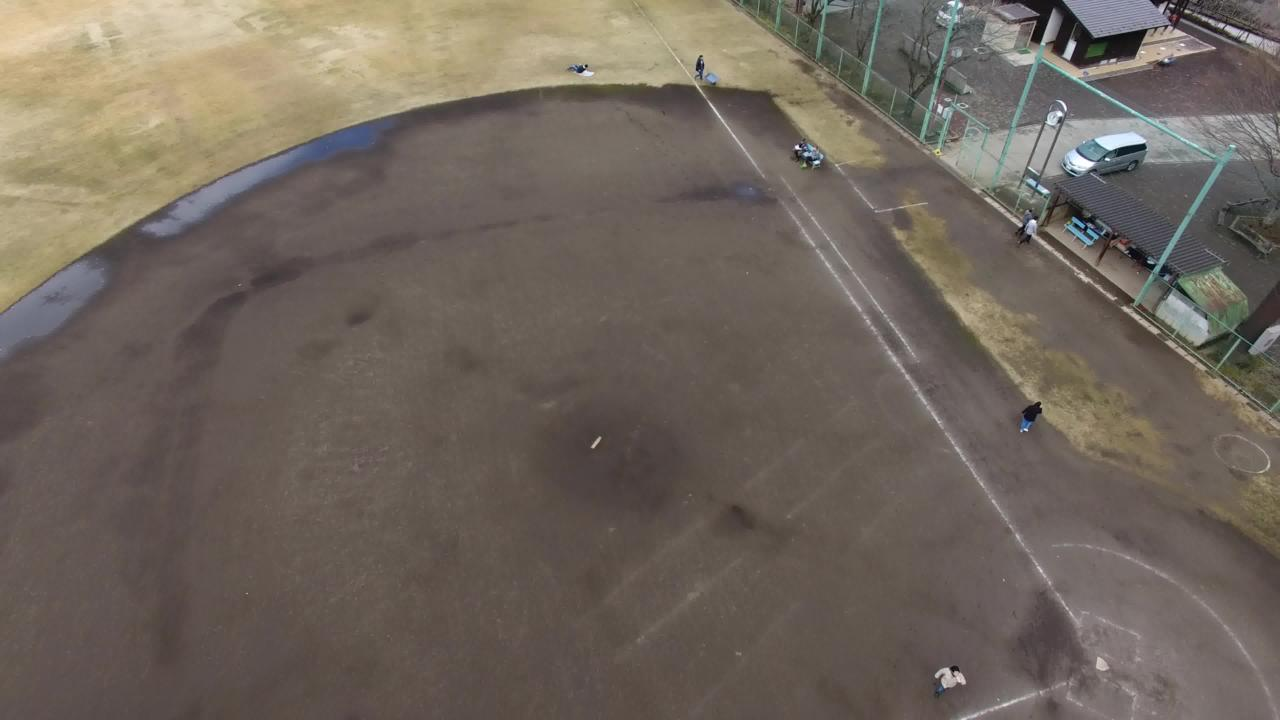car: (1046, 118, 1175, 181)
person: (928, 655, 997, 707), (682, 38, 735, 96), (1009, 386, 1056, 445), (543, 49, 607, 88), (762, 147, 842, 176), (780, 130, 817, 164), (1009, 203, 1035, 246), (1024, 215, 1047, 257)
